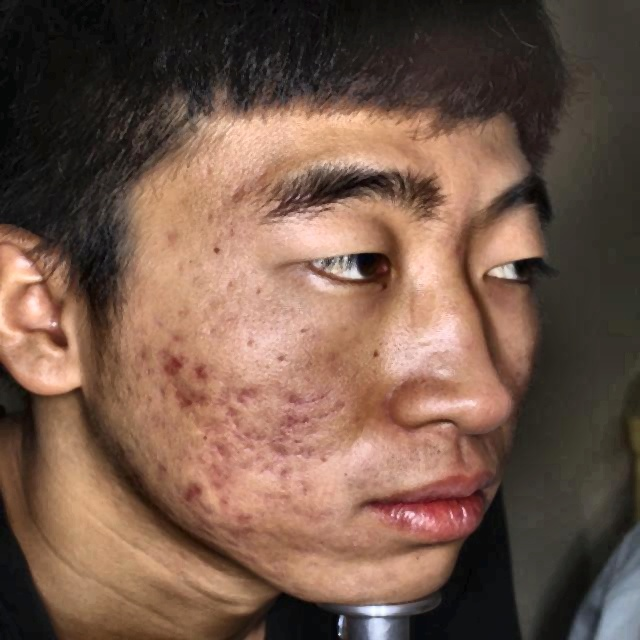pustule: (230, 509, 256, 552), (199, 459, 237, 488), (270, 385, 301, 414), (182, 476, 205, 514), (229, 376, 256, 408), (188, 354, 216, 383), (274, 417, 308, 438), (168, 385, 200, 407), (155, 353, 189, 371), (212, 489, 240, 510)
